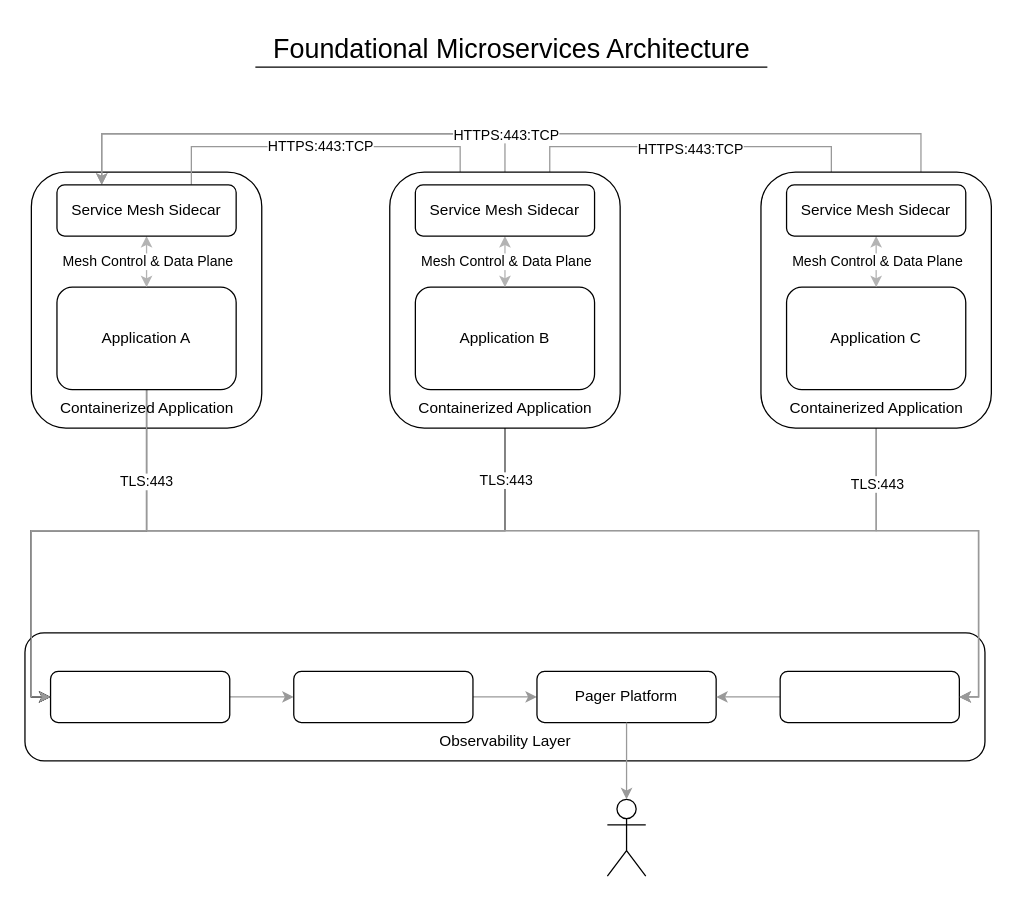
Some shapes in this 1014 by 924 pixel diagram are drawn without their labels. Here are the shapes that lost their labels. From the top down, the box of each, then its label:
(49, 670, 230, 723): Time Series Database
(292, 670, 473, 723): Observability Platform
(779, 670, 959, 723): Logging Platform
(606, 798, 646, 876): On-call Engineer
